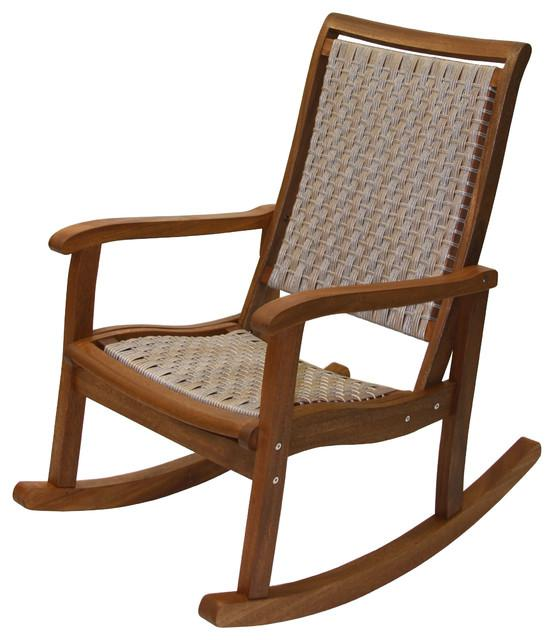chair: (8, 9, 549, 635)
